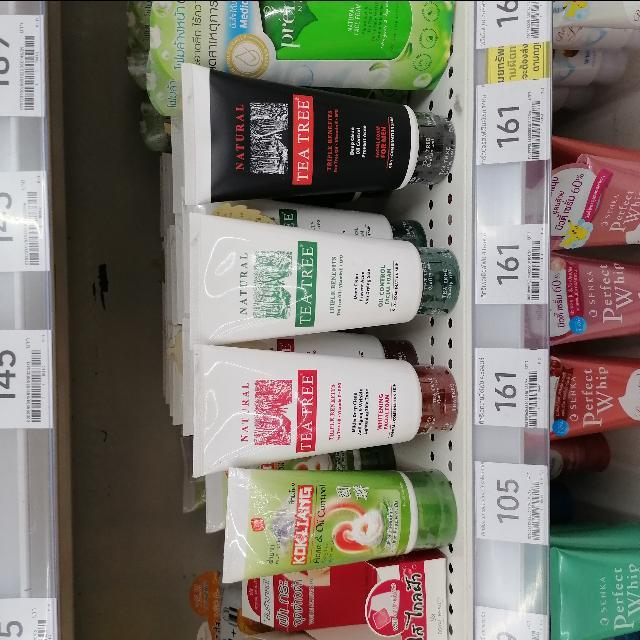Squeeze Tube: (183, 63, 453, 210), (194, 336, 457, 483), (191, 215, 462, 342), (220, 464, 465, 584)
